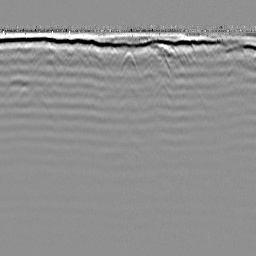cavity: (118, 48, 140, 76)
